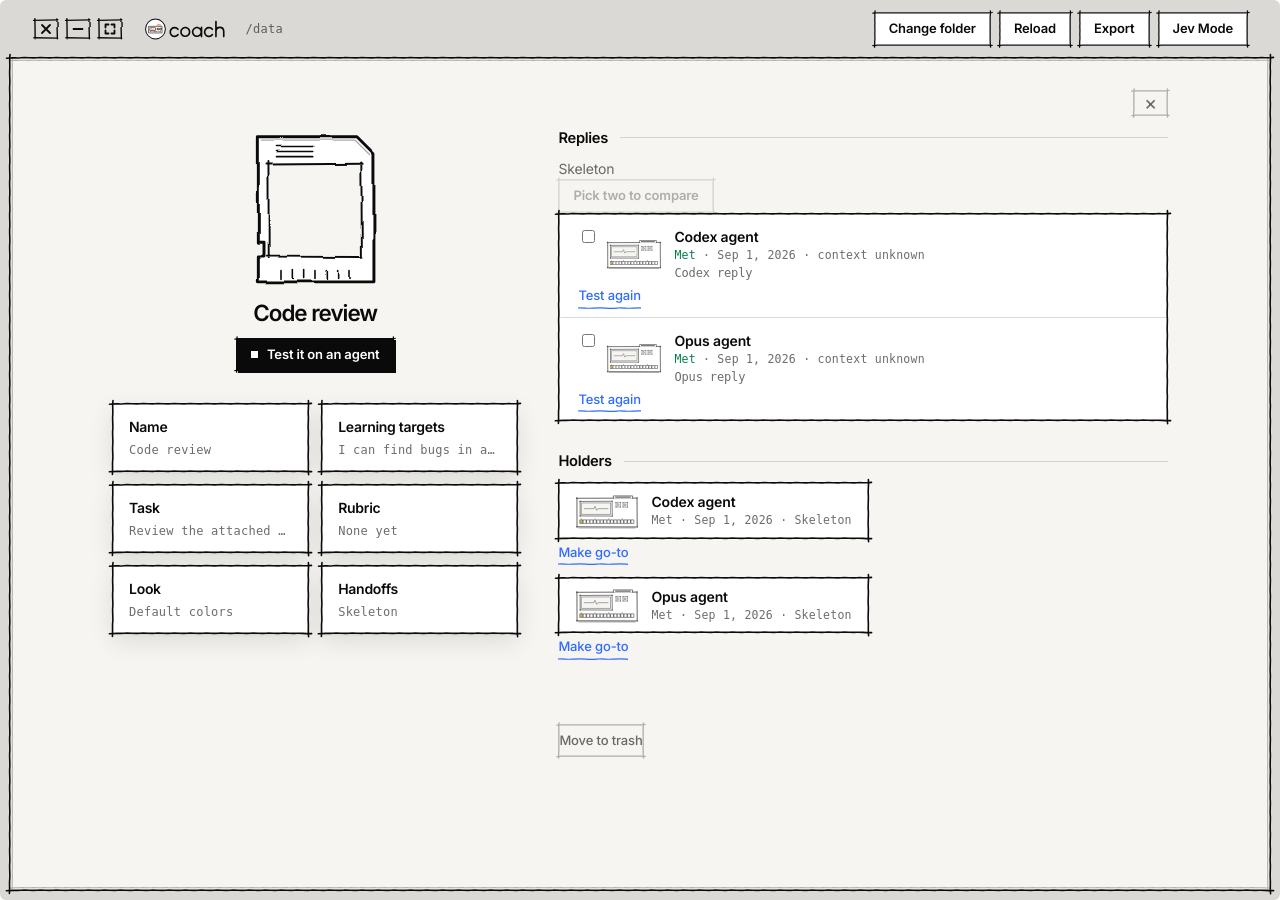
Test: BadgeDetail › Covers R17. Compare opens the two picked replies in the full window, and Escape comes back to the badge with both picked and Compare focused
Check: the element "Replies" is shown, box [558,130,1168,421]
Click the checkbox named "Pick Codex agent, Sep 1, 2026" at (589, 236), box [582,230,595,243]
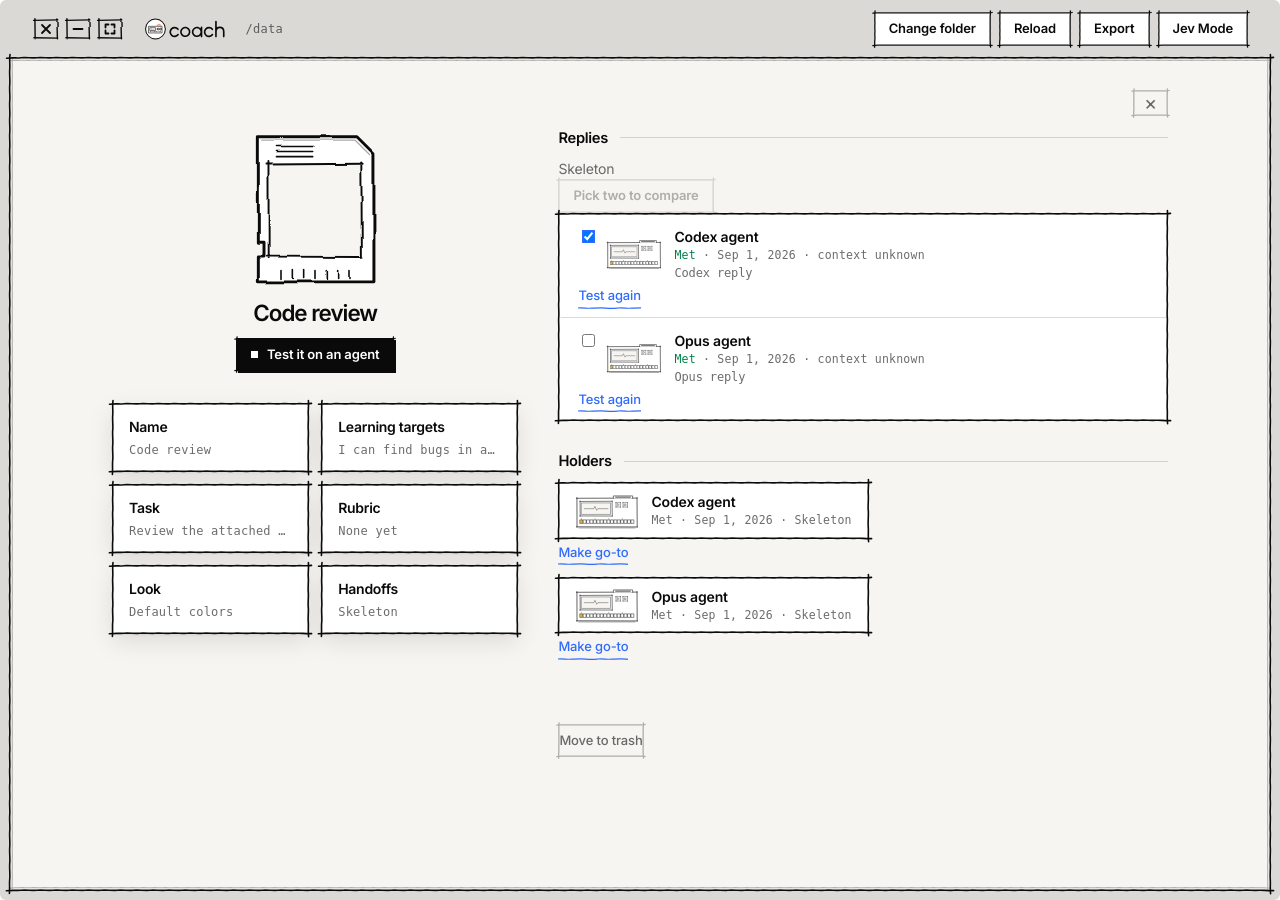
Click the checkbox named "Pick Opus agent, Sep 1, 2026" at (589, 340), box [582,334,595,347]
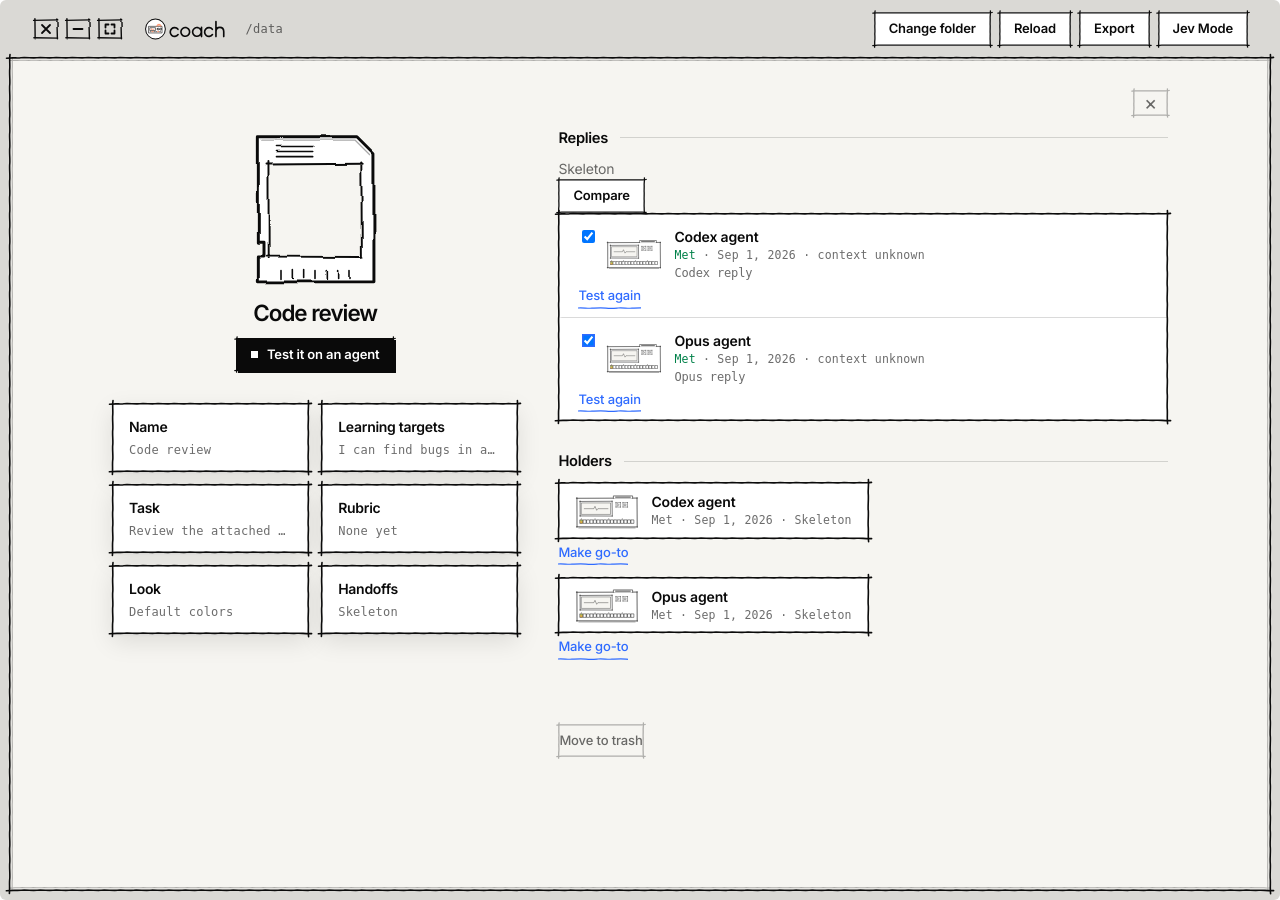
Click the button "Compare" at (602, 196), box [558,179,645,213]
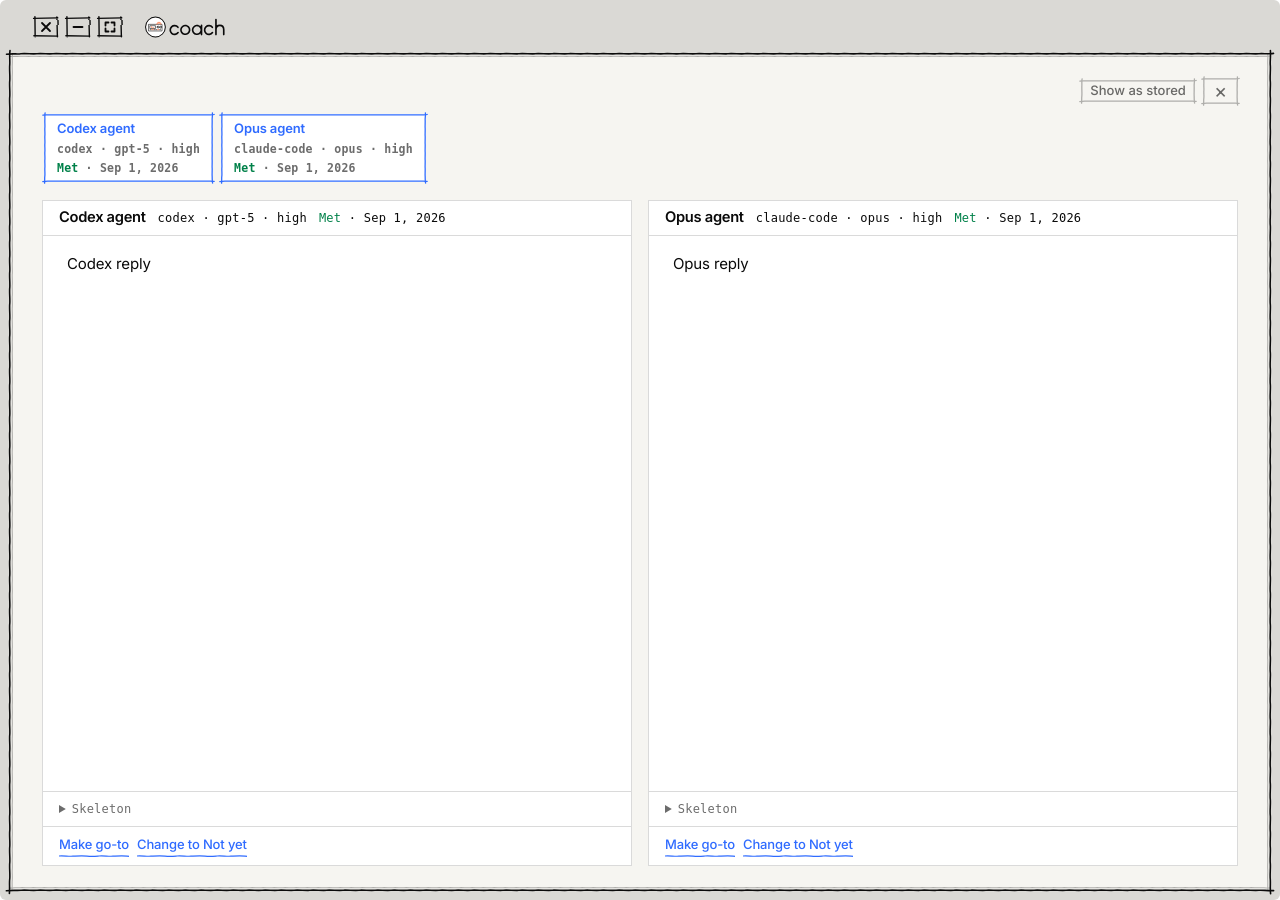
Check: the heading "Code review" is gone
Press Escape
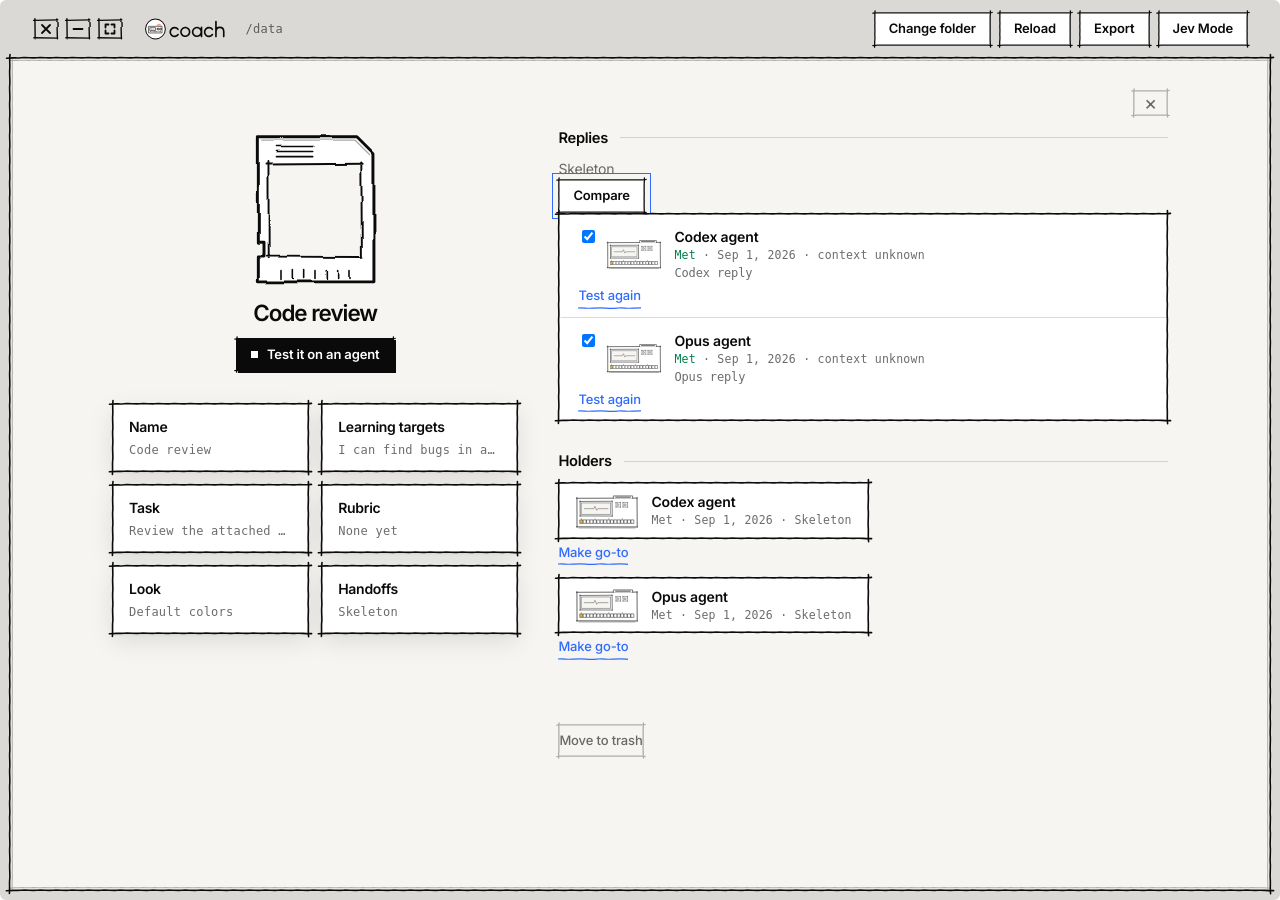
Check: the heading "Code review" is shown, box [253,300,377,326]
